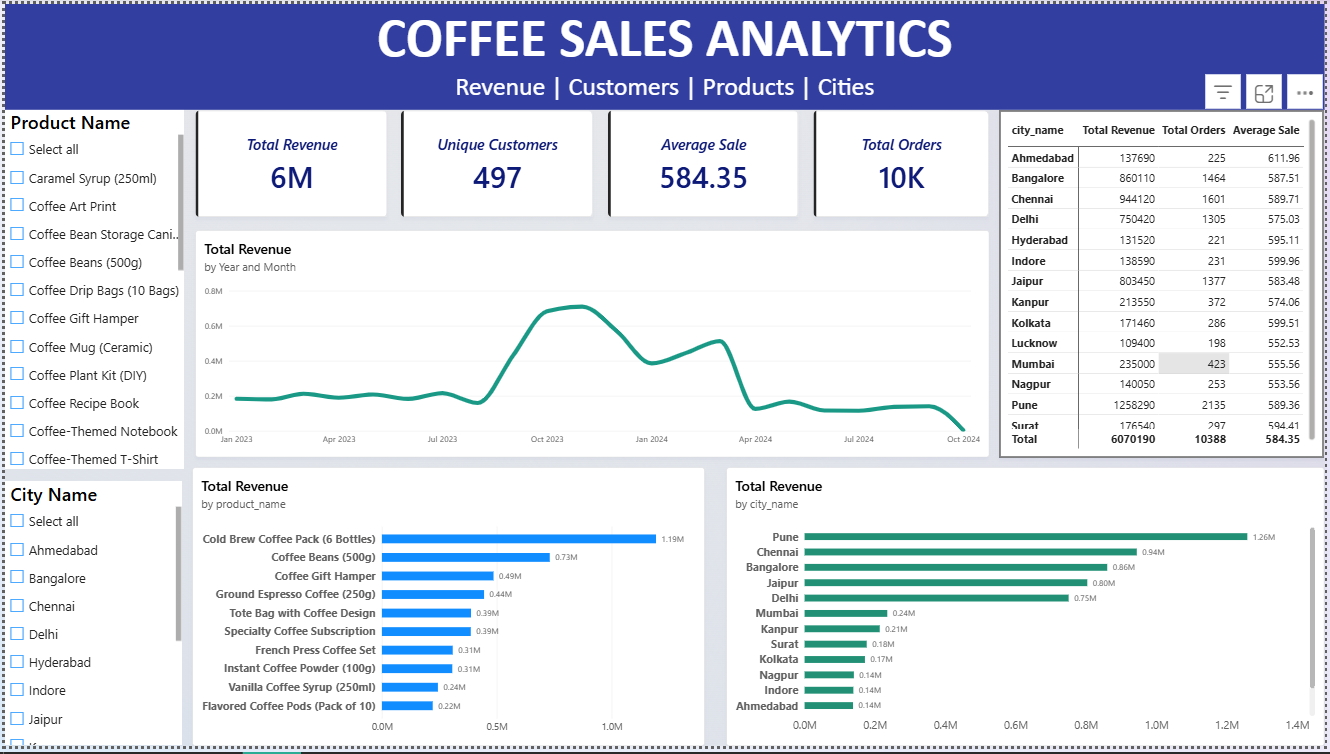

The dashboard page shown, as its layout file describes it:
{"tool":"powerbi","page":{"name":"Coffee Sales Analytics","canvas":[1920,1080],"ordinal":0},"visuals":[{"type":"clusteredBarChart","fields":{"Category":["city.city_name"],"Y":["sales.total_revenue"]},"box":[1050,675,870,405],"z":0},{"type":"cardVisual","fields":{"Data":["sales.total_revenue"]},"box":[277.5,155,279.5,155],"z":1000},{"type":"cardVisual","fields":{"Data":["sales.avg_sale"]},"box":[877.7,155,277.3,155],"z":2000},{"type":"cardVisual","fields":{"Data":["customers.unique_customers"]},"box":[576.4,155,279.5,155],"z":3000},{"type":"slicer","fields":{"Values":["city.city_name"]},"box":[0,695,256.7,383.9],"z":4000},{"type":"slicer","fields":{"Values":["products.product_name"]},"box":[0,152.5,260,522.5],"z":5000},{"type":"cardVisual","fields":{"Data":["customers.Total Orders"]},"box":[1176.8,155,255.5,155],"z":6000},{"type":"lineChart","fields":{"Category":["sales.sale_date.Variation.Date Hierarchy.Year","sales.sale_date.Variation.Date Hierarchy.Month"],"Y":["sales.Total Revenue"]},"box":[277.5,330,1155,330],"z":7000},{"type":"clusteredBarChart","fields":{"Category":["products.product_name"],"Y":["sales.Total Revenue"]},"box":[272.5,675,745,405],"z":8000},{"type":"textbox","box":[0,0,1920.7,154.1],"z":9000},{"type":"pivotTable","fields":{"Rows":["city.city_name"],"Values":["sales.Total Revenue","customers.Total Orders","sales.Average Sale"]},"box":[1447.5,155,472.5,505],"z":10000}]}

Visuals, with their boxes in screenshot pixels (x1, y1, x2, y2), scaled from the page's 1920x1080 canvas onto the 1330x754 screenshot:
clusteredBarChart - city.city_name x sales.total_revenue: bbox=[727, 471, 1329, 753]
cardVisual - sales.total_revenue: bbox=[192, 108, 386, 216]
cardVisual - sales.avg_sale: bbox=[608, 108, 800, 216]
cardVisual - customers.unique_customers: bbox=[399, 108, 593, 216]
slicer - city.city_name: bbox=[0, 485, 178, 753]
slicer - products.product_name: bbox=[0, 106, 180, 471]
cardVisual - customers.Total Orders: bbox=[815, 108, 992, 216]
lineChart - sales.sale_date.Variation.Date Hierarchy.Year x sales.sale_date.Variation.Date Hierarchy.Month: bbox=[192, 230, 992, 461]
clusteredBarChart - products.product_name x sales.Total Revenue: bbox=[189, 471, 705, 753]
textbox: bbox=[0, 0, 1329, 108]
pivotTable - city.city_name x sales.Total Revenue: bbox=[1003, 108, 1329, 461]
